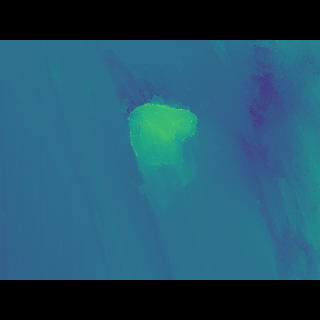Loch: (218, 68, 319, 248), (97, 75, 204, 195)
